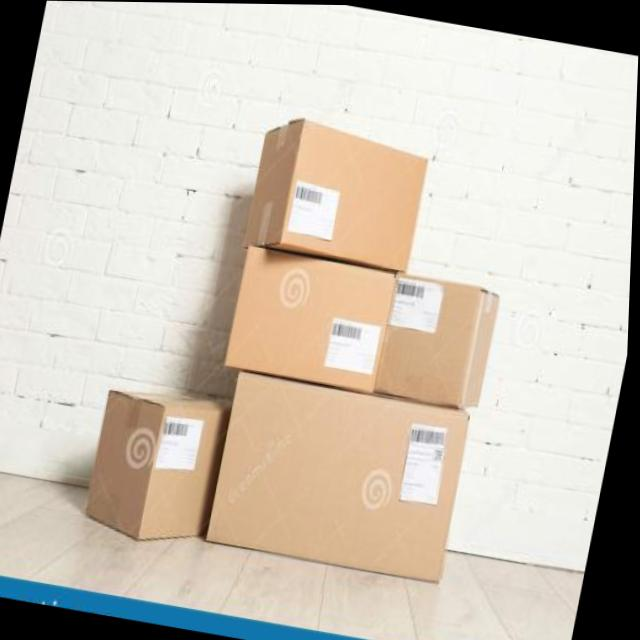box: (201, 371, 492, 584), (240, 97, 449, 283), (207, 233, 413, 395), (77, 366, 238, 566), (365, 264, 524, 419)
